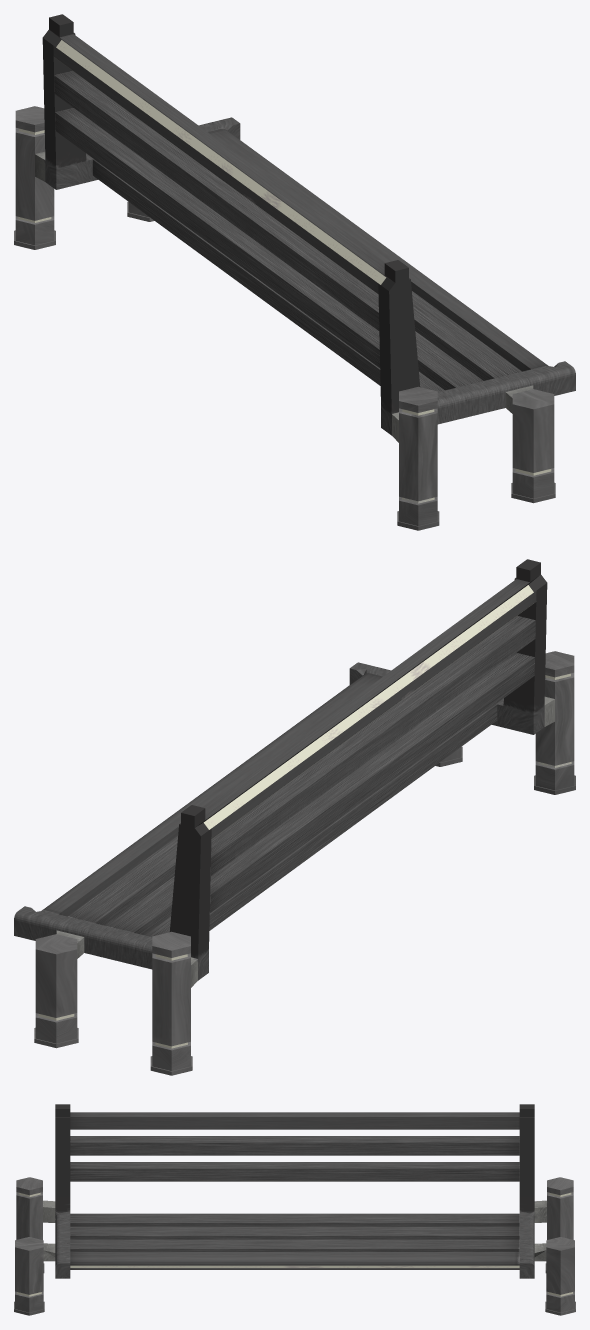
Rendered from Bench.obj.
The picture shows the model from 3 angles, top to bottom: view 1: azimuth 30°, elevation 25°; view 2: azimuth 150°, elevation 25°; view 3: azimuth 270°, elevation 25°; orthographic projection. The views are drawn at different scales.
Visible parts, largest first — view 1: Cube_Cube.001; view 2: Cube_Cube.001; view 3: Cube_Cube.001.
Part boxes in pixels (<box>): Cube_Cube.001: <box>14,14,575,530</box>; Cube_Cube.001: <box>14,559,575,1075</box>; Cube_Cube.001: <box>14,1104,575,1315</box>.
Size of the model in its own units: 1.29 by 1.49 by 4.62.
Materials: 1 (1 with a texture image).
